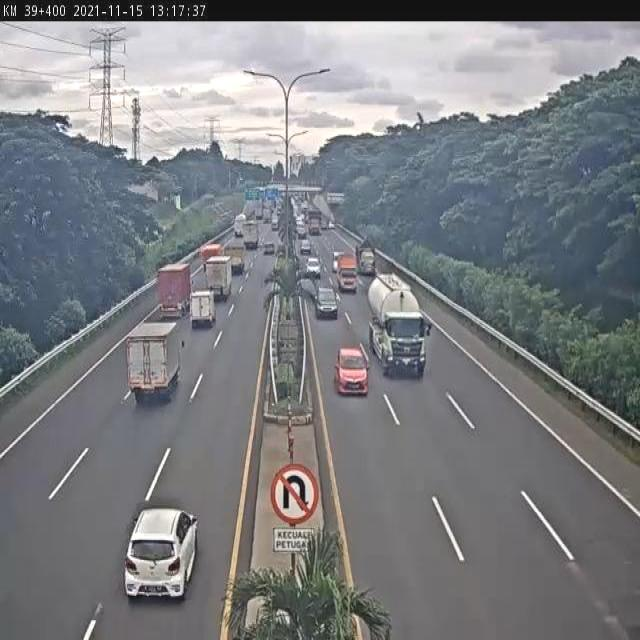Car: (125, 500, 199, 597), (333, 346, 369, 396), (314, 286, 338, 319), (306, 257, 322, 278), (332, 251, 343, 272), (300, 239, 312, 257), (264, 241, 274, 254), (329, 220, 335, 230)
Truck: (368, 260, 433, 382), (120, 318, 190, 406), (152, 260, 192, 313), (203, 252, 237, 296), (185, 289, 220, 325), (355, 237, 382, 279), (336, 255, 359, 291), (223, 242, 247, 276), (239, 218, 260, 251), (197, 241, 222, 266), (231, 213, 246, 241)
